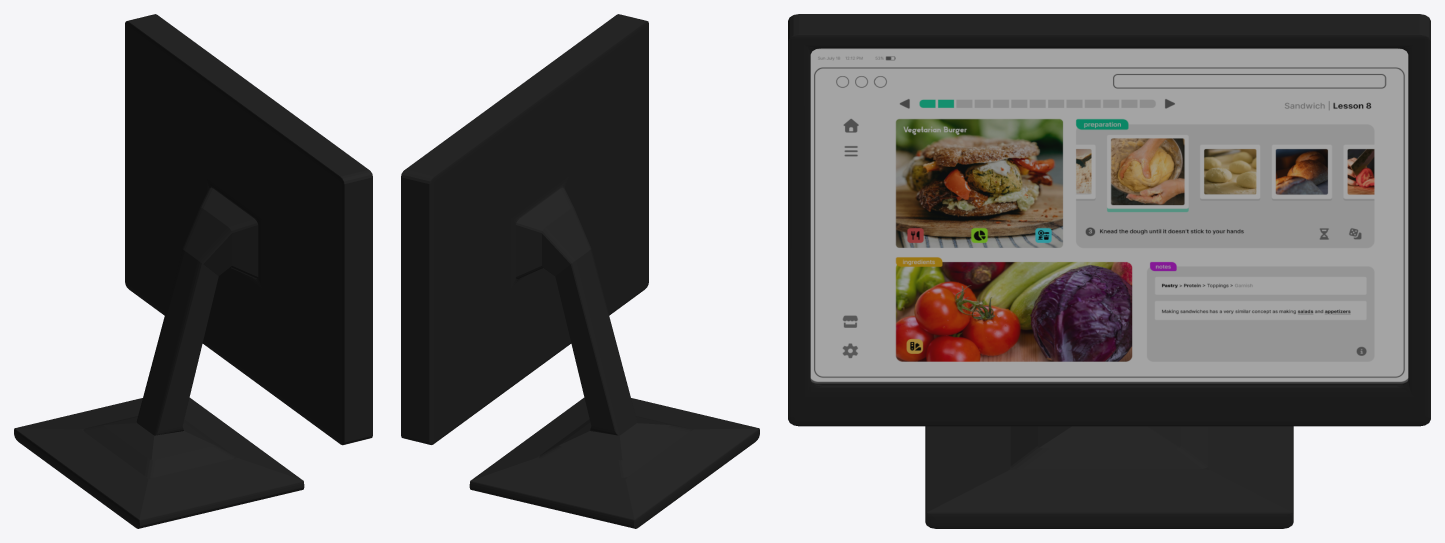
Rendered from d-nomadchef.glb.
The picture shows the model from 3 angles, left to right: view 1: azimuth 30°, elevation 25°; view 2: azimuth 150°, elevation 25°; view 3: azimuth 270°, elevation 25°; orthographic projection. The views are drawn at different scales.
Parts seen in each view (by area): view 1: Cube; view 2: Cube; view 3: Desktop, Cube.
Part boxes in pixels (x1,y1,x2,y2): Cube: (14, 14, 372, 528); Cube: (401, 14, 759, 528); Desktop: (810, 48, 1408, 384); Cube: (788, 14, 1430, 528).
Size of the model in its own units: 2.67 by 4.75 by 5.43.
Materials: 2 (1 with a texture image).
